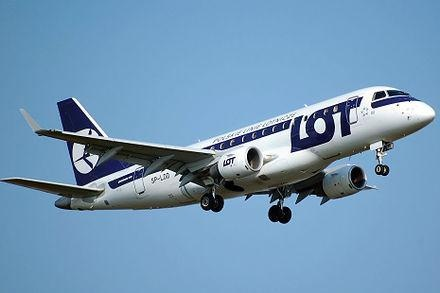airplane: (4, 79, 438, 225)
